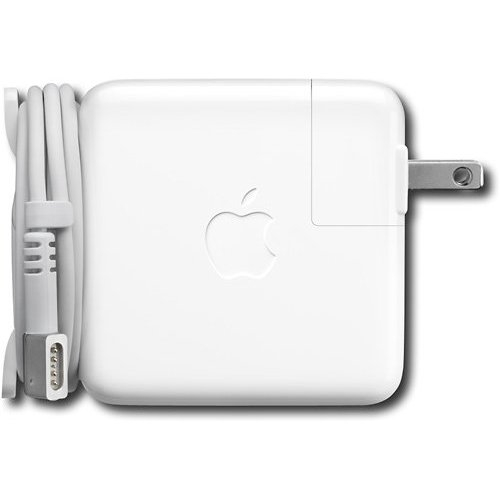Apple: (191, 185, 291, 289)
